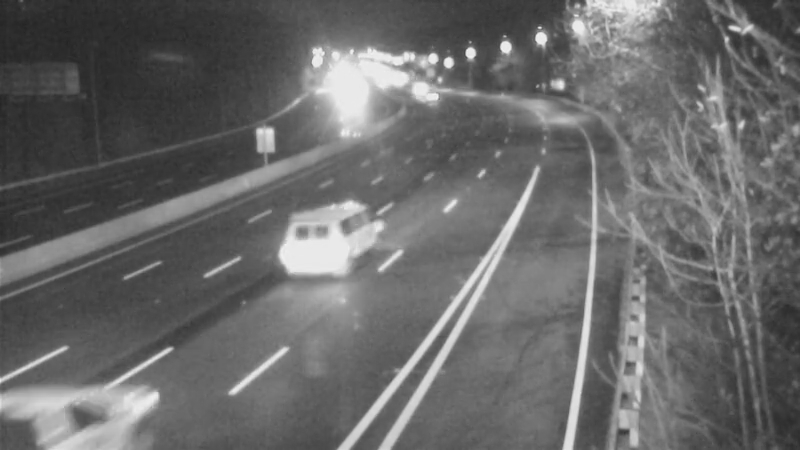vehicle: (265, 211, 345, 291), (392, 61, 442, 111), (409, 76, 459, 126)
